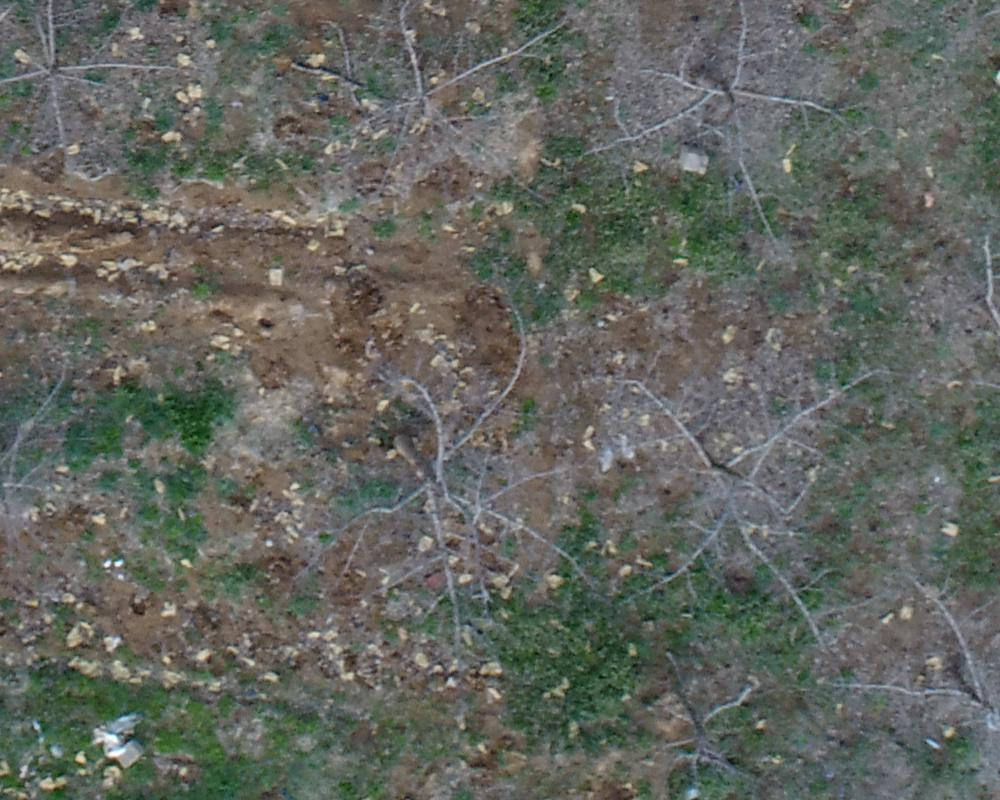apple: (548, 320, 900, 662), (287, 296, 591, 668), (591, 10, 850, 243), (282, 10, 569, 214), (836, 587, 990, 790), (10, 10, 186, 178), (10, 347, 128, 578)
